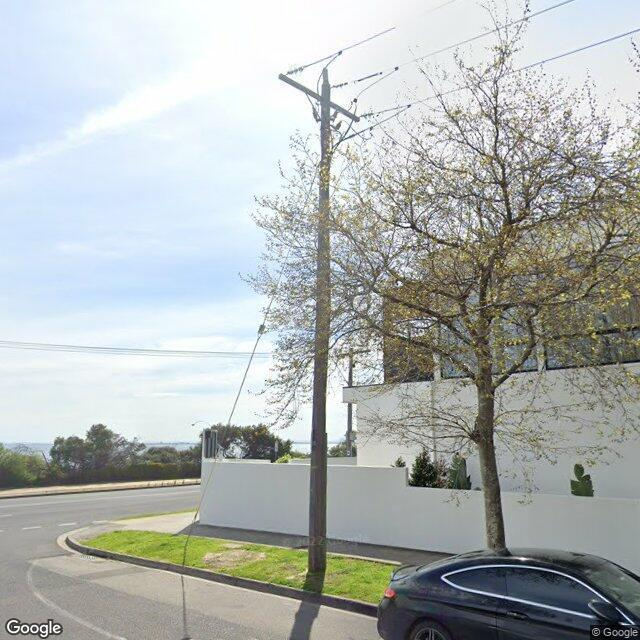HV-transmission: (286, 50, 411, 117)
crossarm: (279, 74, 360, 122), (337, 350, 371, 357)
timber-pole: (308, 83, 330, 574), (347, 348, 354, 456)
